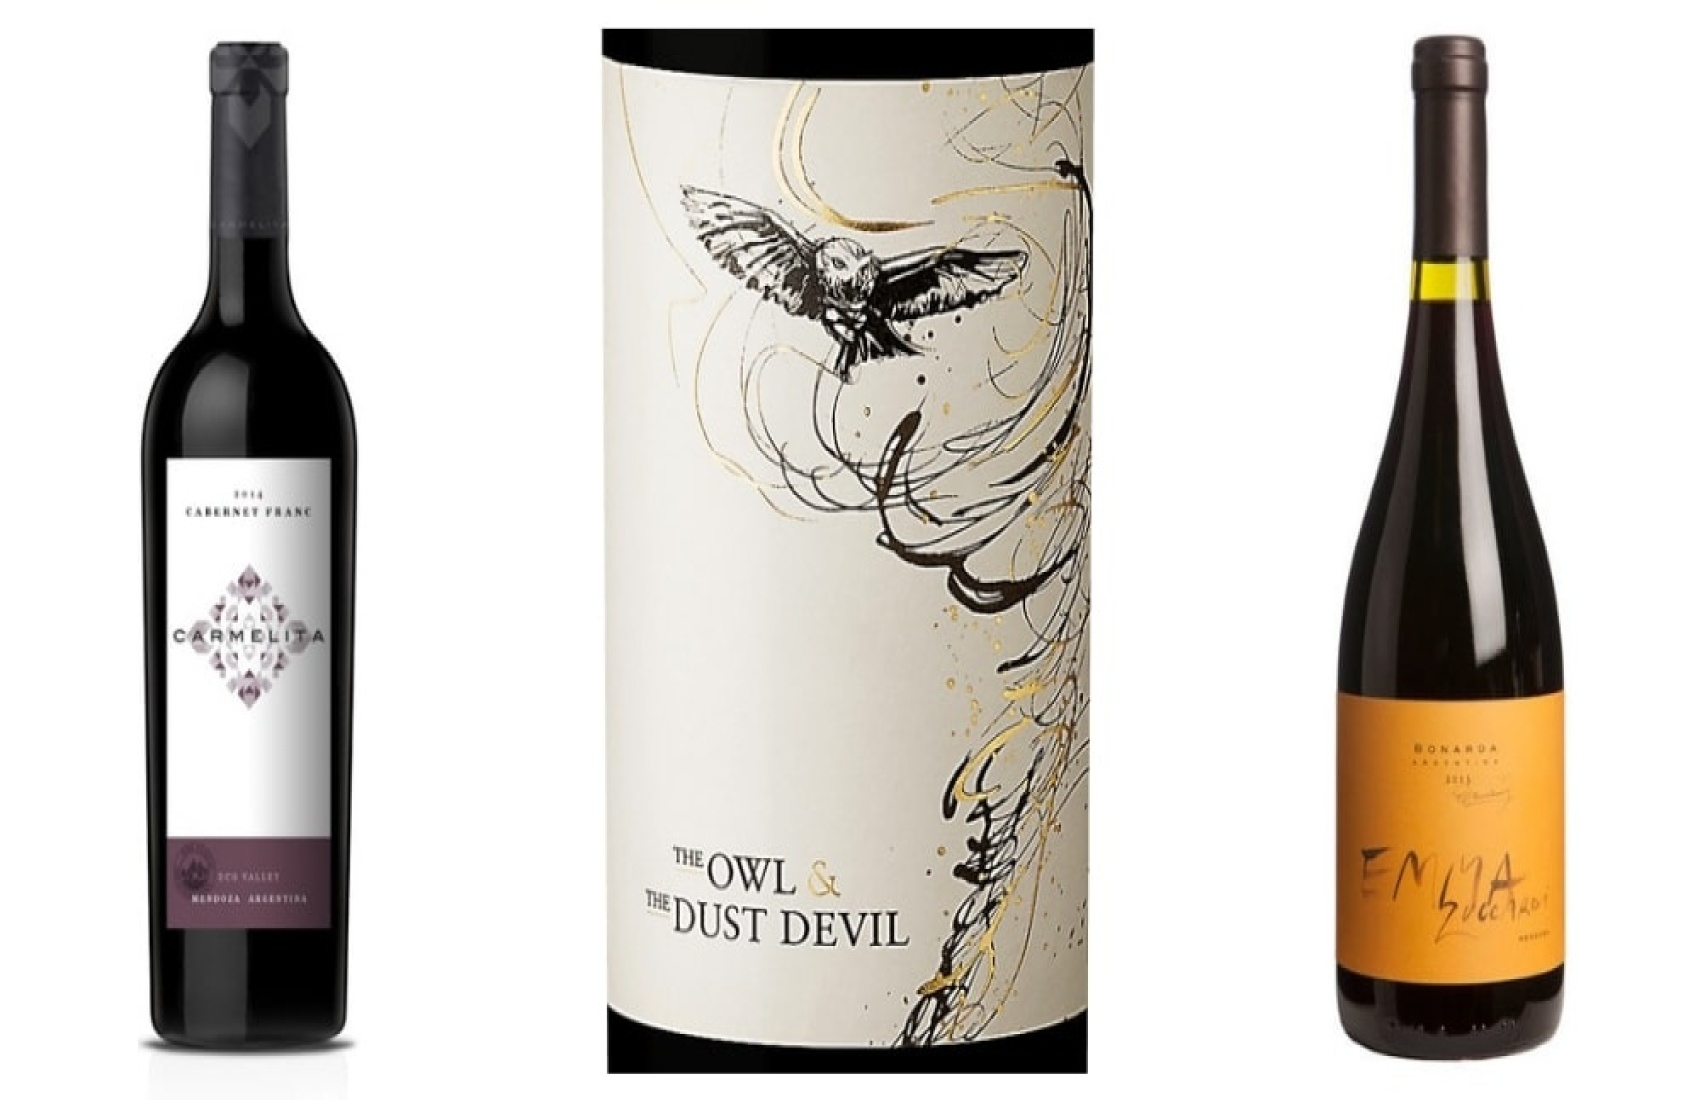wine: (1334, 40, 1556, 1038), (142, 38, 363, 1036)
